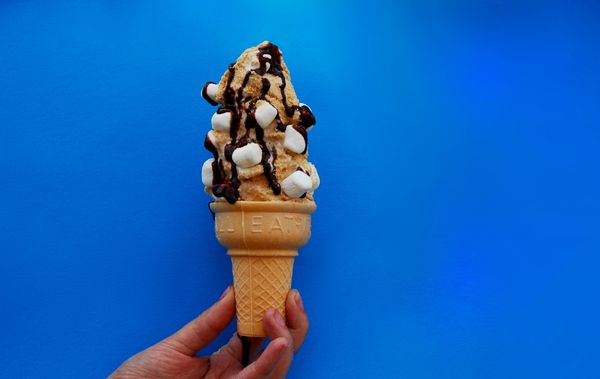pizza: (106, 282, 310, 376)
